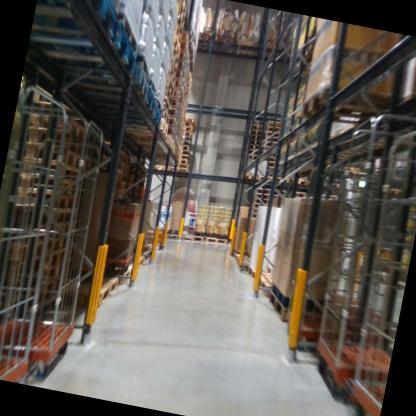pallet: (286, 77, 403, 191), (28, 4, 145, 86), (46, 38, 155, 107), (35, 0, 121, 44), (46, 265, 119, 312), (84, 76, 160, 118), (15, 181, 87, 222), (19, 106, 94, 142), (106, 93, 166, 136), (20, 137, 89, 172), (17, 167, 85, 200), (0, 233, 51, 270), (25, 127, 92, 155), (102, 252, 140, 289), (264, 289, 301, 322), (253, 271, 281, 304), (46, 229, 74, 259), (132, 132, 174, 152), (135, 122, 175, 139), (202, 232, 229, 250), (243, 263, 263, 286), (156, 104, 173, 128), (154, 119, 171, 141), (183, 230, 206, 246), (165, 66, 180, 88), (129, 251, 147, 269), (135, 244, 154, 261), (164, 226, 184, 242), (184, 24, 197, 47), (182, 113, 199, 130), (175, 3, 188, 25), (167, 55, 181, 75), (171, 27, 184, 48), (171, 37, 185, 56), (250, 183, 270, 196), (162, 87, 175, 107), (161, 97, 174, 116), (198, 32, 211, 51), (235, 257, 255, 269), (165, 164, 189, 174), (257, 175, 281, 185), (165, 116, 179, 133), (229, 249, 247, 262), (166, 161, 189, 171), (95, 153, 110, 168), (250, 195, 269, 206), (249, 201, 268, 212), (169, 97, 181, 114), (239, 171, 257, 182), (320, 180, 342, 189), (170, 46, 181, 64), (164, 80, 176, 96), (345, 163, 364, 173), (269, 187, 286, 198), (166, 108, 180, 121), (247, 120, 265, 130), (245, 137, 264, 146), (174, 16, 184, 33), (246, 127, 264, 136), (176, 0, 190, 11), (246, 143, 263, 152), (246, 133, 263, 142), (263, 133, 280, 142), (115, 147, 125, 162), (264, 124, 282, 132), (292, 189, 308, 198), (115, 158, 126, 171), (119, 163, 130, 176), (110, 188, 120, 202), (252, 192, 269, 200), (122, 153, 133, 165), (113, 168, 125, 179), (117, 190, 127, 203), (171, 91, 182, 102), (262, 139, 277, 147), (261, 144, 276, 152), (265, 119, 282, 126), (181, 129, 194, 138), (244, 149, 260, 156), (264, 129, 280, 136), (245, 154, 260, 161), (111, 179, 121, 189), (261, 150, 275, 157), (178, 157, 190, 165), (179, 144, 192, 151), (263, 160, 276, 167), (119, 181, 129, 190), (178, 149, 190, 156), (133, 182, 141, 192), (139, 184, 146, 195), (178, 154, 189, 161), (264, 155, 275, 162), (181, 140, 193, 146), (182, 136, 192, 143), (183, 126, 194, 132), (125, 182, 133, 190), (248, 208, 257, 214), (248, 213, 257, 219)
